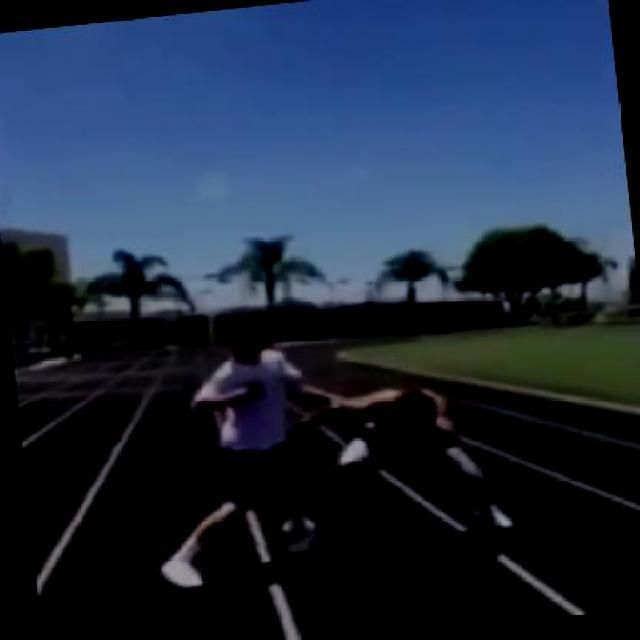fight: (142, 282, 518, 564)
